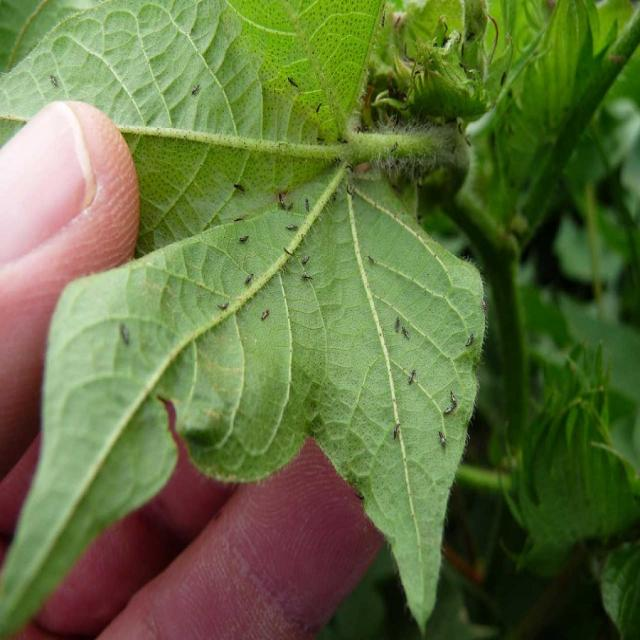Thrip-Adult-: (273, 184, 288, 213), (435, 426, 450, 455), (390, 313, 404, 338), (390, 418, 403, 444), (406, 365, 418, 392), (335, 133, 351, 151), (281, 220, 303, 233), (47, 68, 61, 88), (464, 330, 477, 351), (312, 98, 327, 116), (286, 72, 300, 91), (235, 232, 254, 246), (230, 181, 250, 194), (364, 252, 380, 268), (298, 270, 316, 284), (191, 78, 202, 100), (449, 388, 460, 409), (280, 244, 296, 258), (244, 270, 256, 288), (301, 195, 312, 214), (260, 304, 270, 324), (300, 252, 312, 268), (232, 213, 246, 226), (217, 298, 230, 312), (442, 403, 456, 416), (400, 324, 410, 342), (315, 133, 327, 144)
Thrip-Group-: (171, 49, 479, 480)
